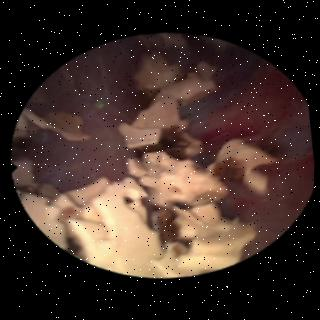stone: (15, 48, 280, 271), (17, 107, 90, 138)
